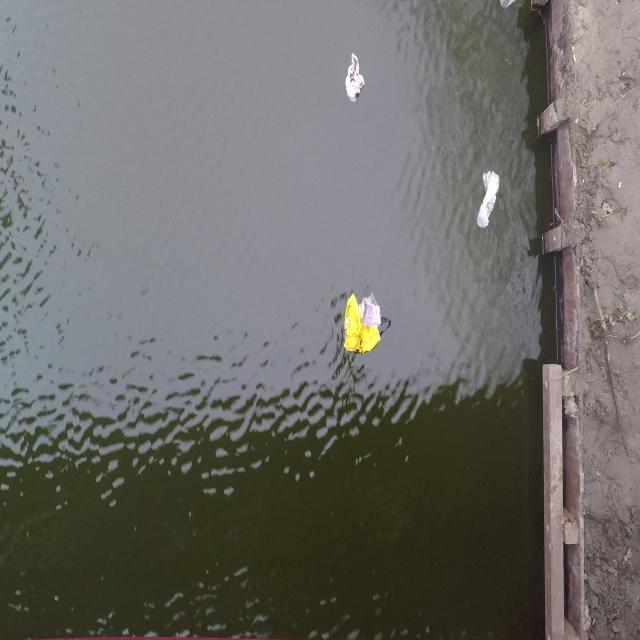Sac plastique: (334, 282, 389, 364), (472, 155, 506, 244), (339, 48, 373, 107)
